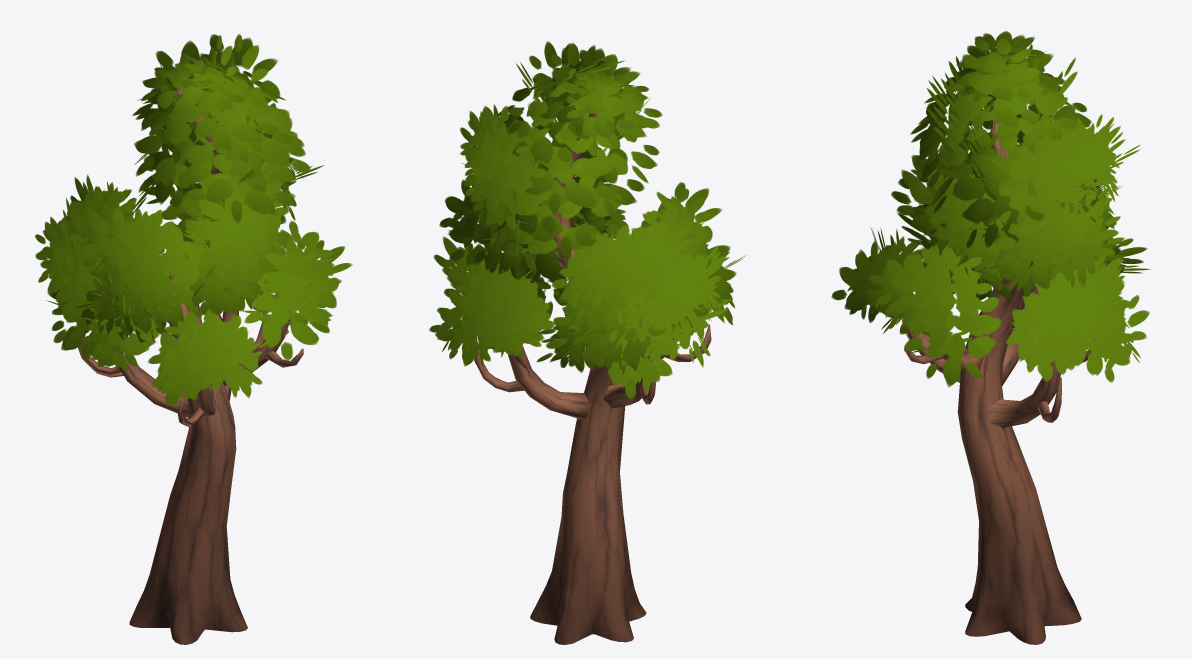
The model's file is tree-2.glb.
3 views of the same model, side by side, from view 1: azimuth 30°, elevation 25°; view 2: azimuth 150°, elevation 25°; view 3: azimuth 270°, elevation 25° (orthographic). The views are drawn at different scales.
Visible parts, largest first — view 1: CommonTree_2; view 2: CommonTree_2; view 3: CommonTree_2.
Boxes of the visible parts, x1,y1,x2,y2 form: CommonTree_2: (35, 34, 352, 644); CommonTree_2: (429, 41, 746, 644); CommonTree_2: (831, 31, 1150, 644).
Bounding box in the file's own units: 4.46 × 7.64 × 4.28.
2 materials, 2 textured.
